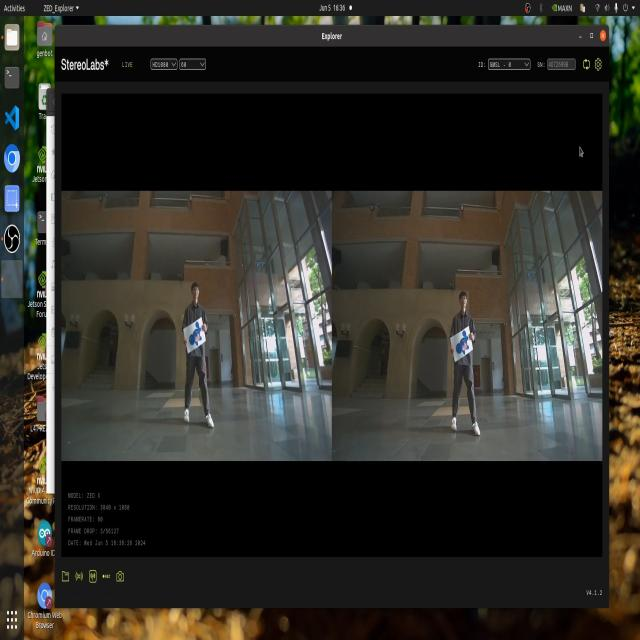blue: (454, 326, 476, 365), (185, 317, 208, 353)
